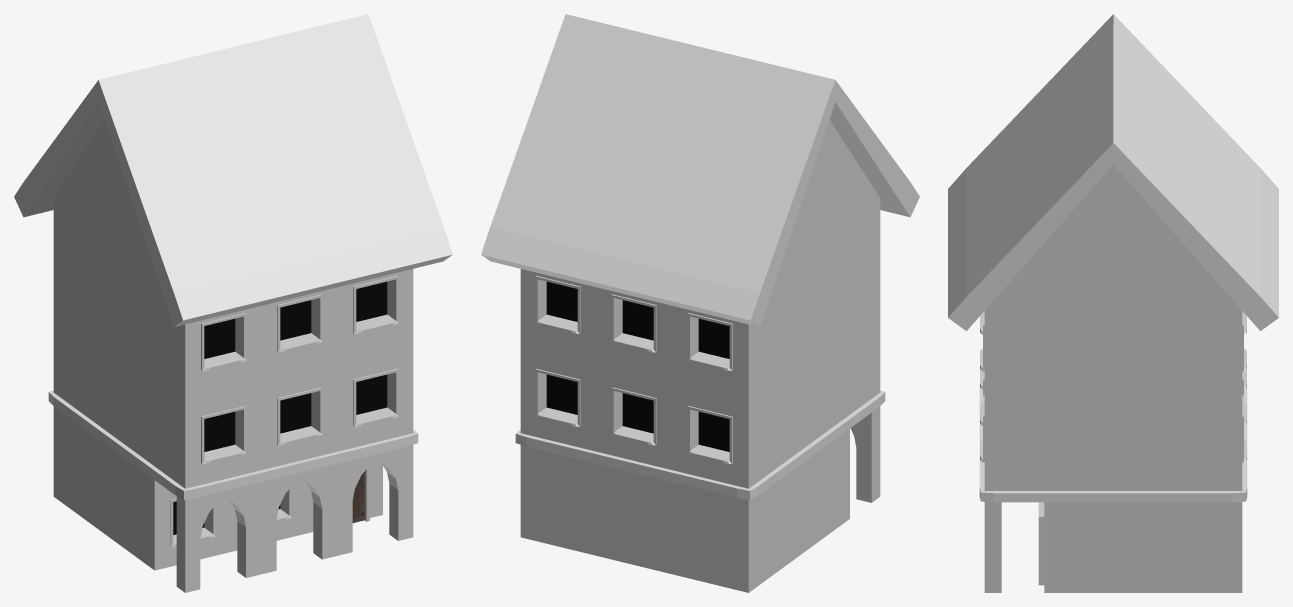
The model's file is House2.fbx.
3 renders of one model, left to right at view 1: azimuth 30°, elevation 25°; view 2: azimuth 150°, elevation 25°; view 3: azimuth 270°, elevation 25°, orthographic. The views are drawn at different scales.
Visible parts, largest first — view 1: House_2; view 2: House_2; view 3: House_2.
Boxes of the visible parts, x1,y1,x2,y2 form: House_2: (14,14,452,592); House_2: (481,14,919,592); House_2: (948,14,1278,592).
Bounding box in the file's own units: 355 × 591 × 385.
5 materials, 1 textured.
